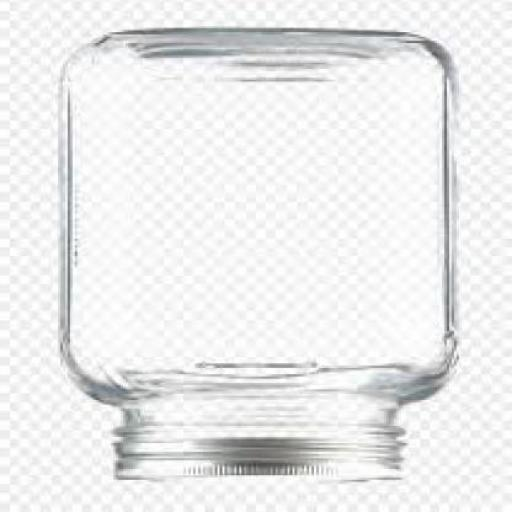glass: (63, 30, 459, 430)
metal: (116, 435, 406, 486)
